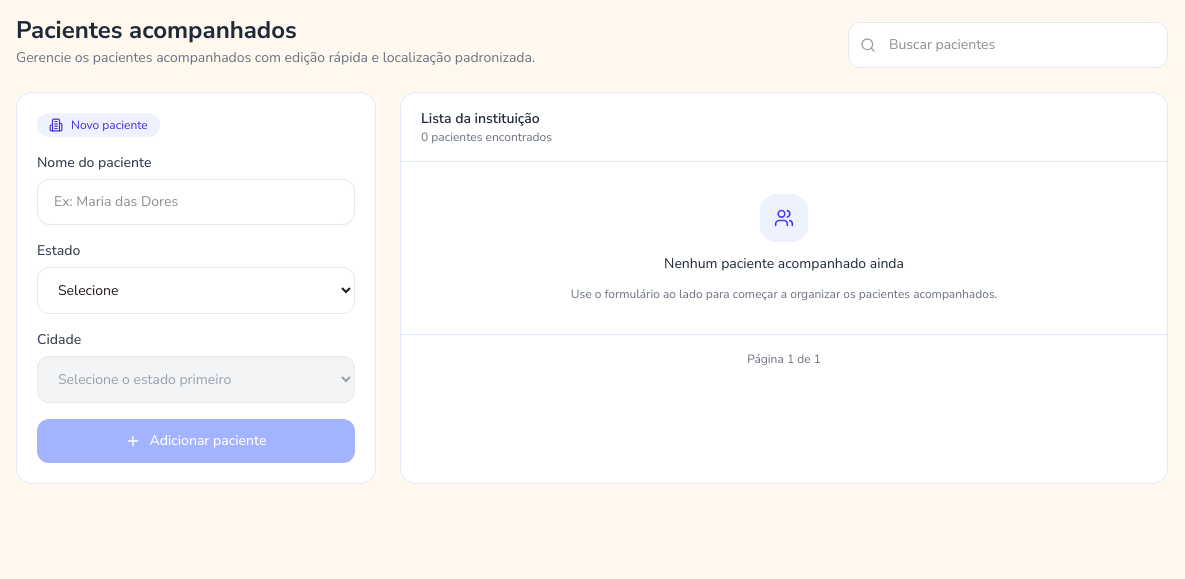
Test: InstitutionPatients › blocks programmatic submit when the location is incomplete
Expected: the text "Nenhum paciente acompanhado ainda" is shown, [664,254,904,273]
In the field labelled "Nome do paciente": (196, 202) [37,179,355,225], type "Maria das Dores"
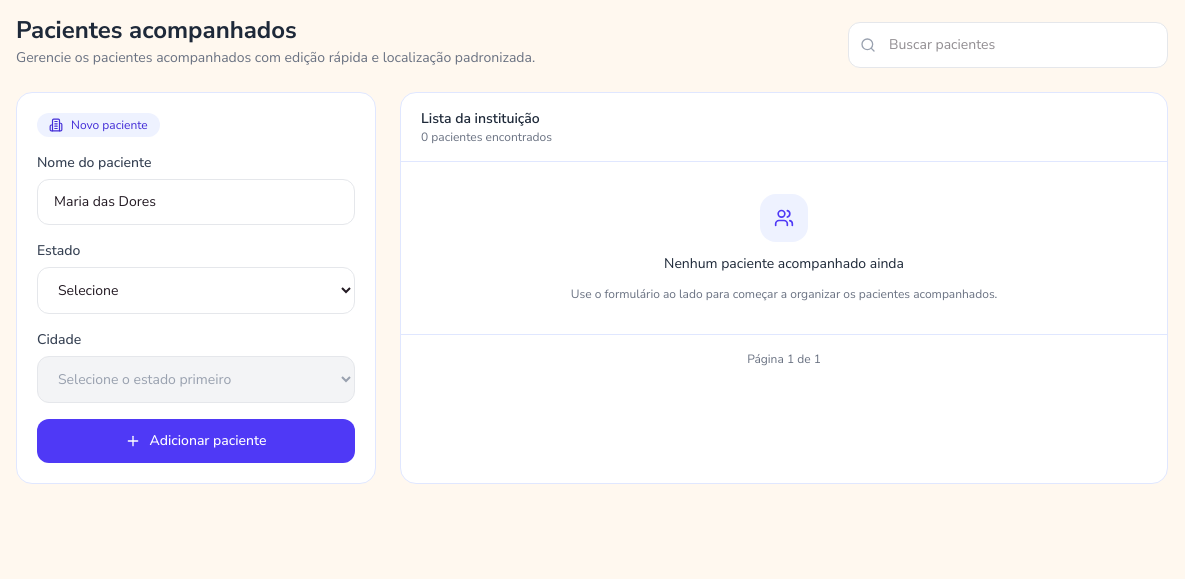
Select "Pernambuco (PE)" in the dropdown labelled "Estado": (196, 290) [37,267,355,314]
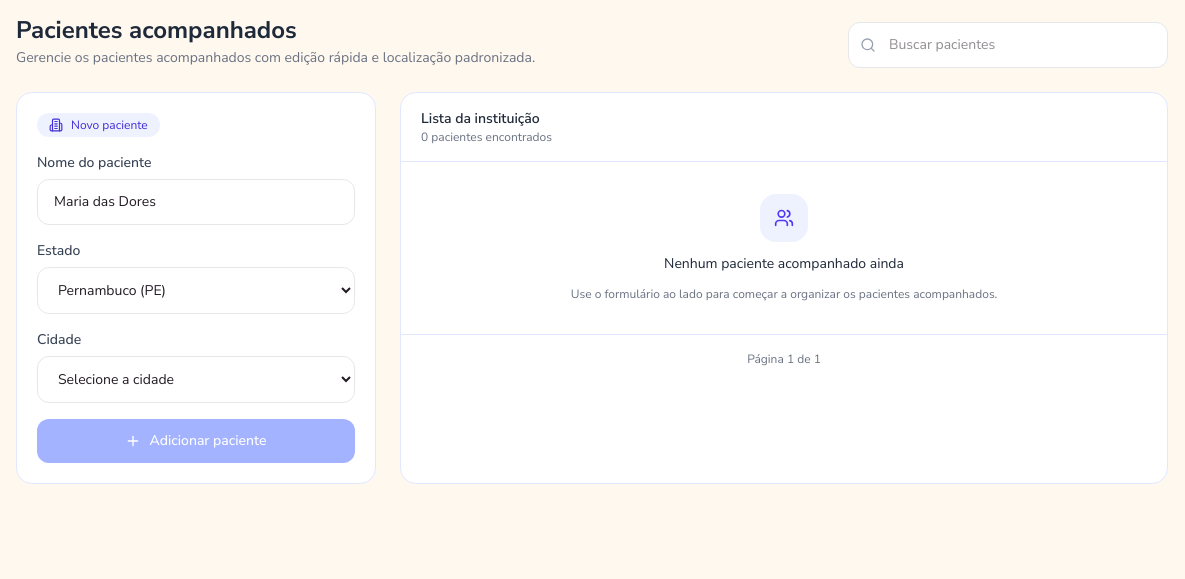
Submit the form "Adicionar paciente", box [16,92,376,484]
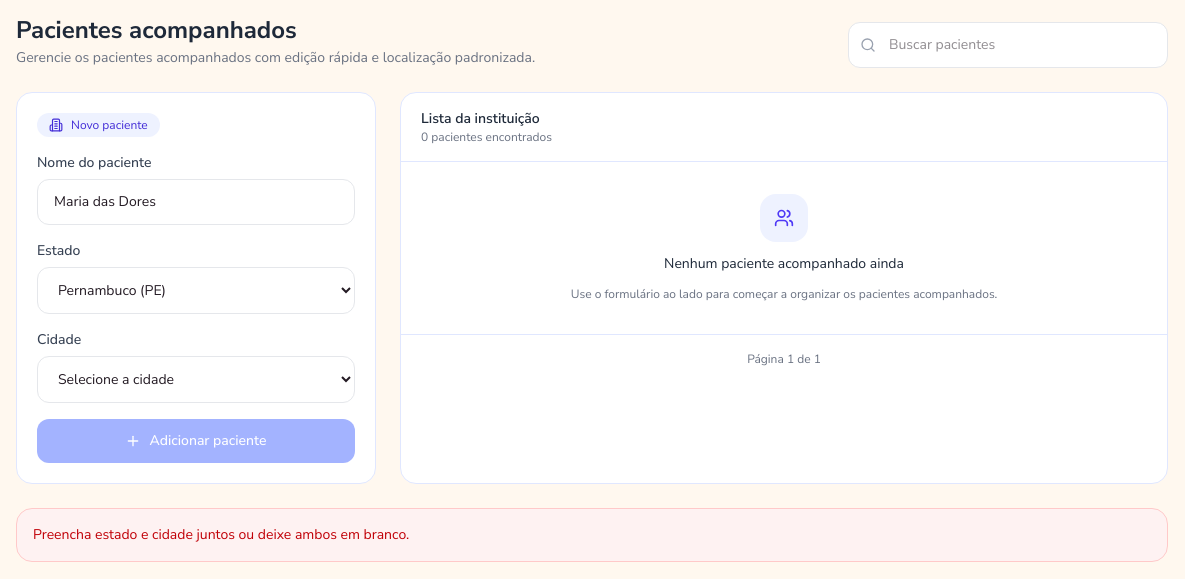
Now the text "Preencha estado e cidade juntos ou deixe ambos em branco." is shown, box [16,508,1168,562]
